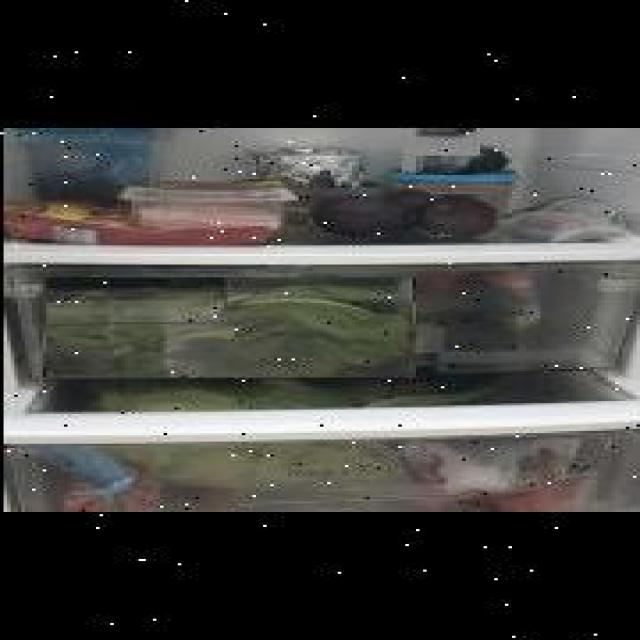avocado: (310, 194, 420, 237), (430, 195, 494, 238)
cucumber: (404, 143, 510, 173)
pak_choi: (42, 277, 412, 378)
sausage: (0, 128, 171, 141)
yogurt: (484, 128, 562, 154), (412, 128, 477, 156)
